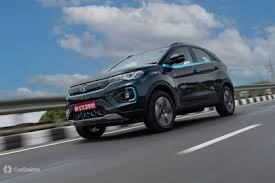Tata Nexon: (60, 41, 237, 137)
